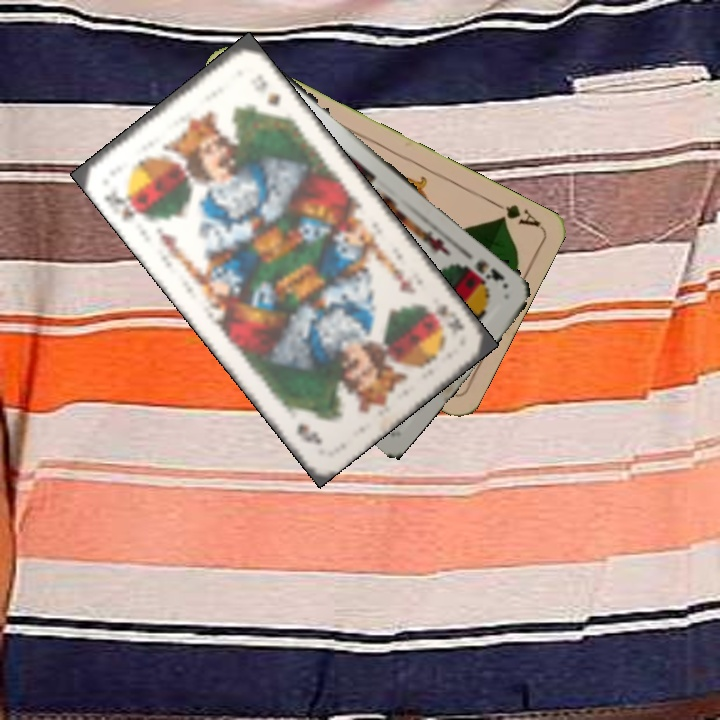GA: (487, 196, 543, 230)
SK: (99, 187, 148, 224), (433, 300, 466, 337), (471, 255, 508, 284)
